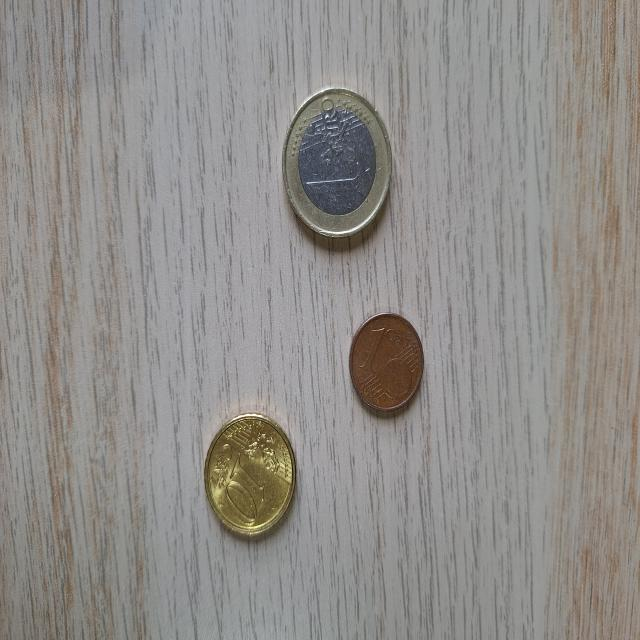10c: (204, 413, 296, 538)
1c: (348, 311, 426, 415)
1e: (283, 86, 393, 239)
